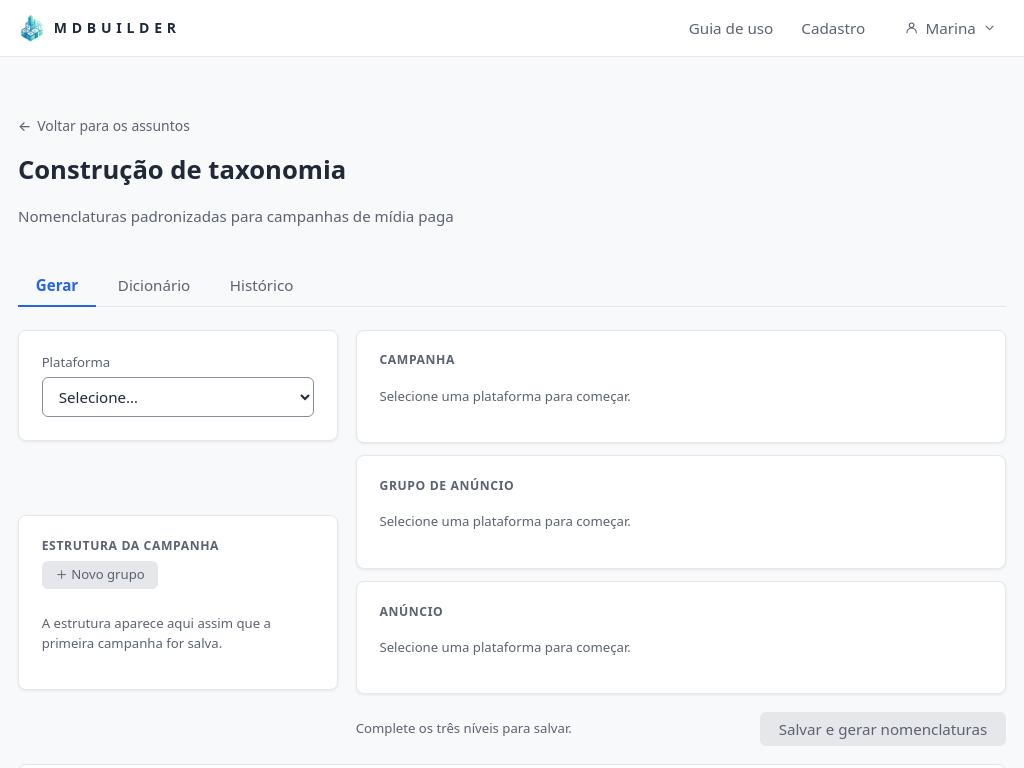
Test: menu de conta › fecha com Esc e devolve o foco ao gatilho
Expected: the tab "Gerar" is shown, [18,266,96,307]
Click the button "Marina" at (951, 28), box [895,11,1006,45]
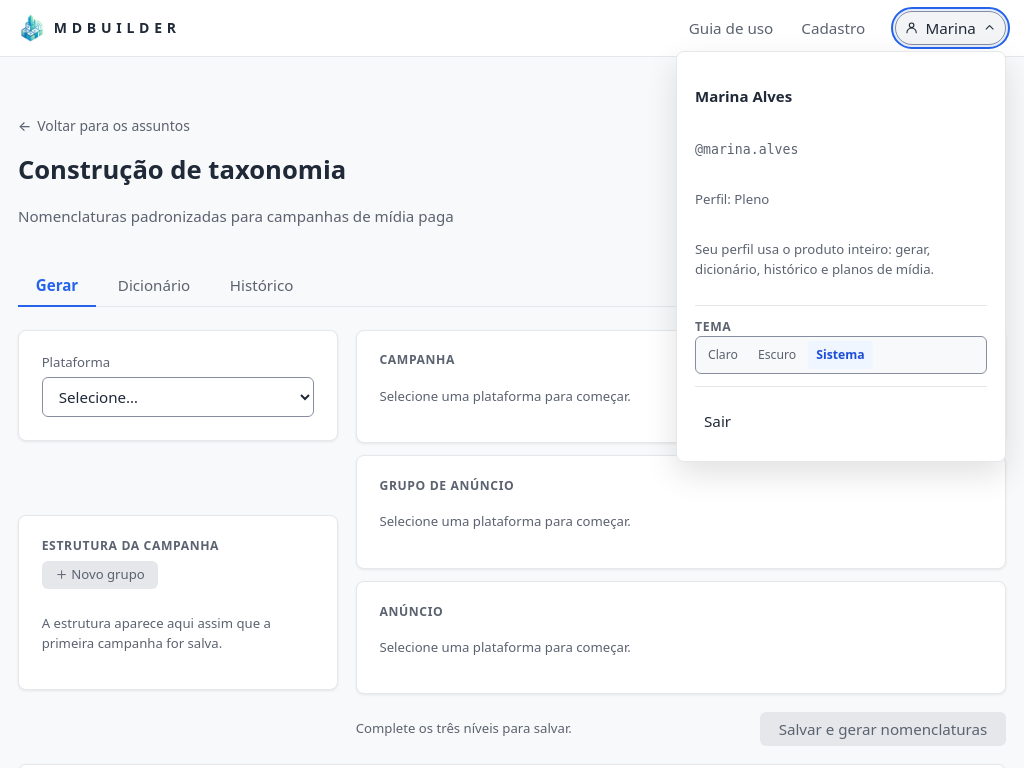
Now the button "Marina" is expanded, box [895,11,1006,45]
Press Escape
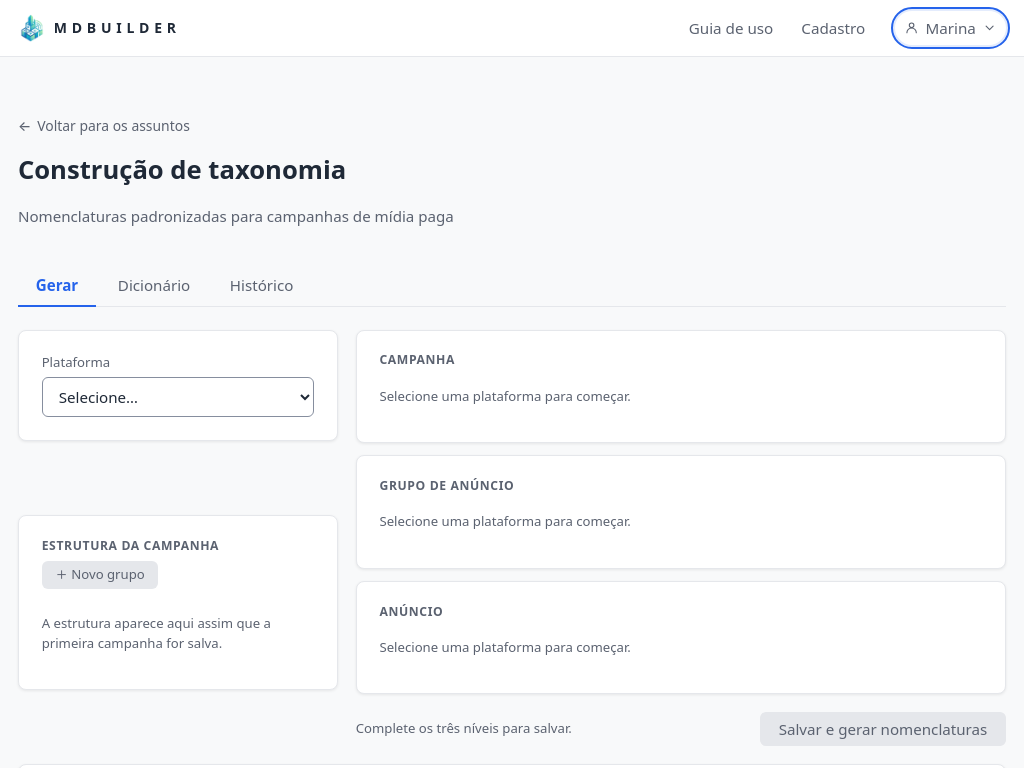
Now the button "Marina" is collapsed, box [895,11,1006,45]
